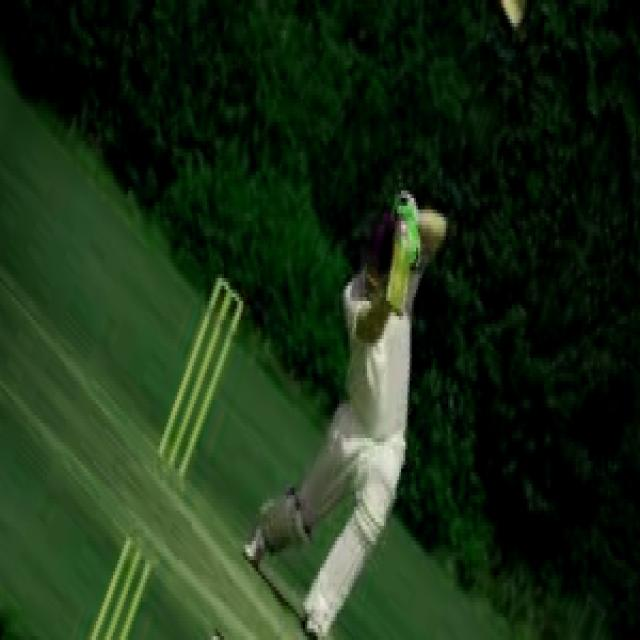bat: (388, 220, 415, 315)
